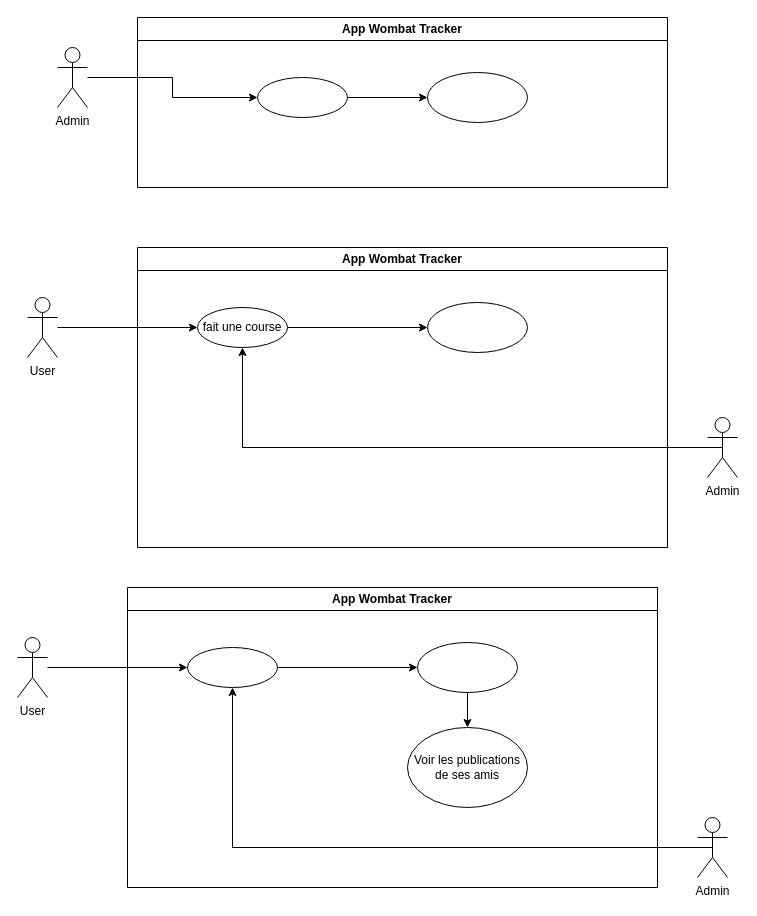
Some shapes in this 757 by 916 pixel diagram are drawn without their labels. Each missing label, with the centre of its shape:
"Ajoute un utilisateur" goes at point (467, 667).
"Ajouter un bâton au user" goes at point (477, 97).
"cherche un user" goes at point (232, 667).
"Chercher un user" goes at point (302, 97).
"Partage son score" goes at point (477, 327).
